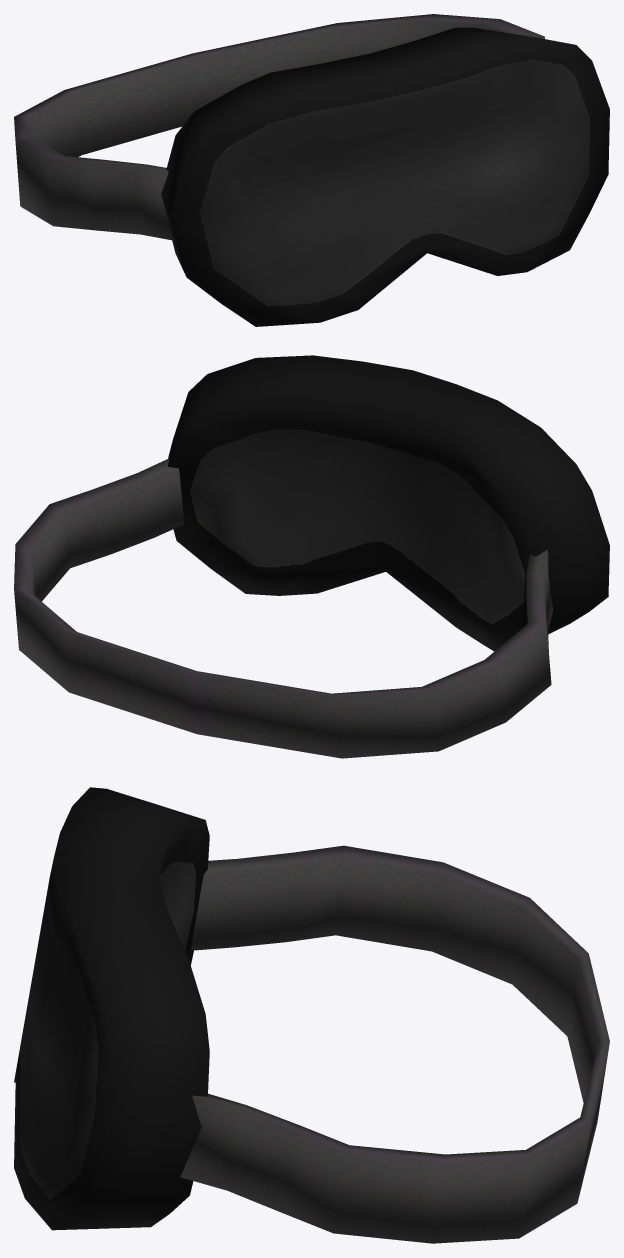
File: DustGoggles_WorldItem.fbx
3 views of the same model, one above another, from view 1: azimuth 30°, elevation 25°; view 2: azimuth 150°, elevation 25°; view 3: azimuth 270°, elevation 25° (orthographic). The views are drawn at different scales.
Parts seen in each view (by area): view 1: Circle; view 2: Circle; view 3: Circle.
Part boxes in pixels (<box>): Circle: <box>14,14,609,326</box>; Circle: <box>14,355,609,758</box>; Circle: <box>14,787,609,1243</box>.
Size of the model in its own units: 0.3375 by 0.1485 by 0.2773.
